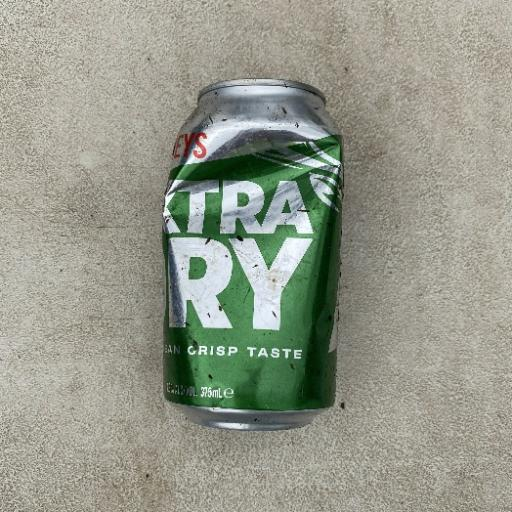Metal: (159, 76, 346, 432)
